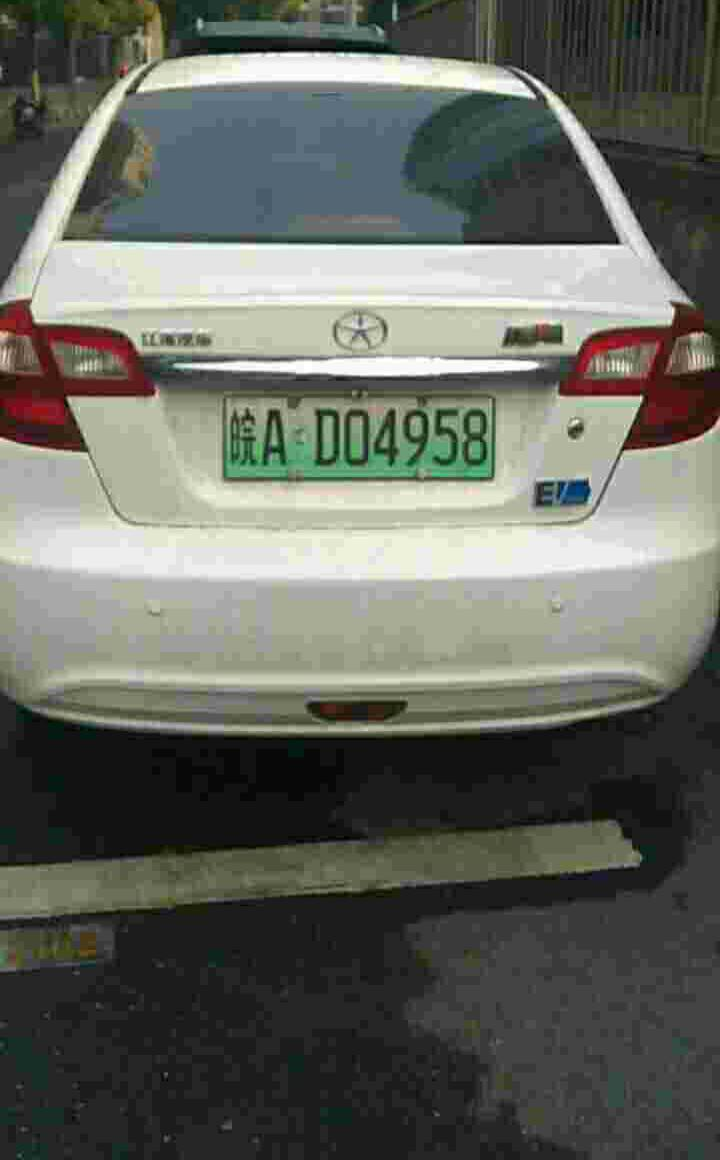car_green: (218, 393, 501, 489)
